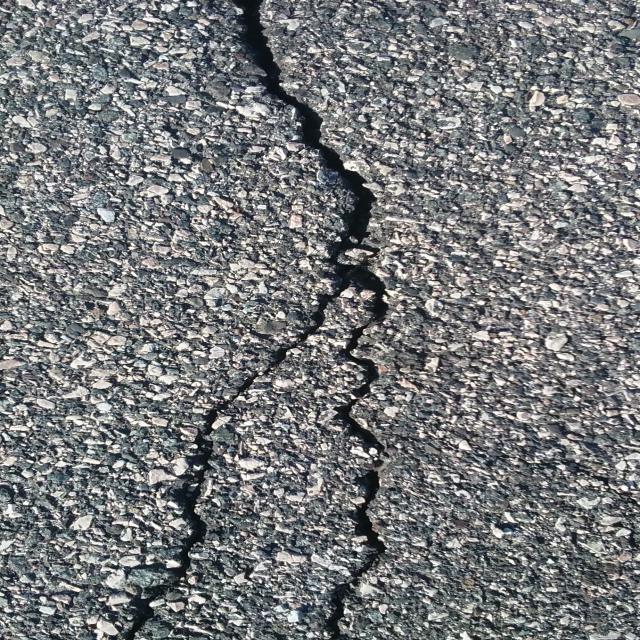Crack: (105, 0, 389, 640)
